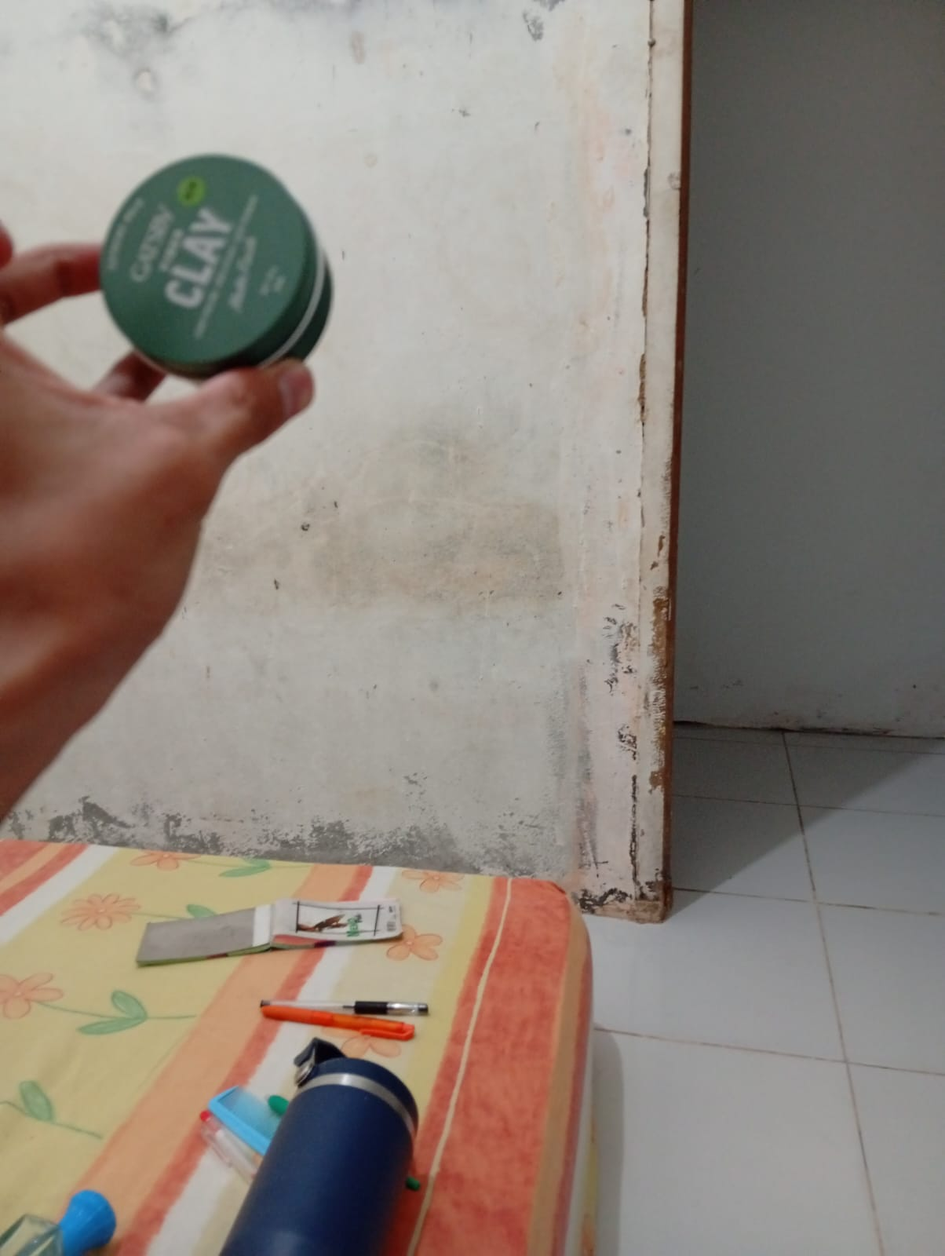Minyak_Rambut: (50, 125, 358, 391)
Tupperware: (216, 1030, 451, 1256)
